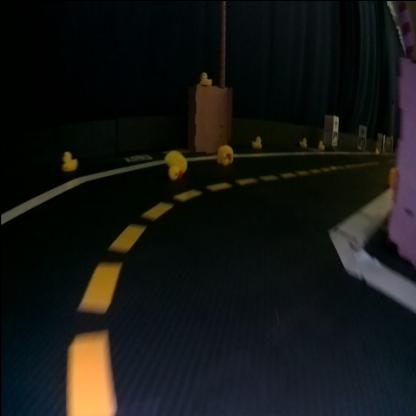Duckie: (164, 150, 188, 178), (62, 150, 76, 169), (218, 144, 232, 163), (200, 71, 212, 83), (252, 134, 262, 146), (300, 136, 306, 146), (318, 140, 324, 148), (375, 148, 380, 152)
QR code: (123, 153, 151, 161)
